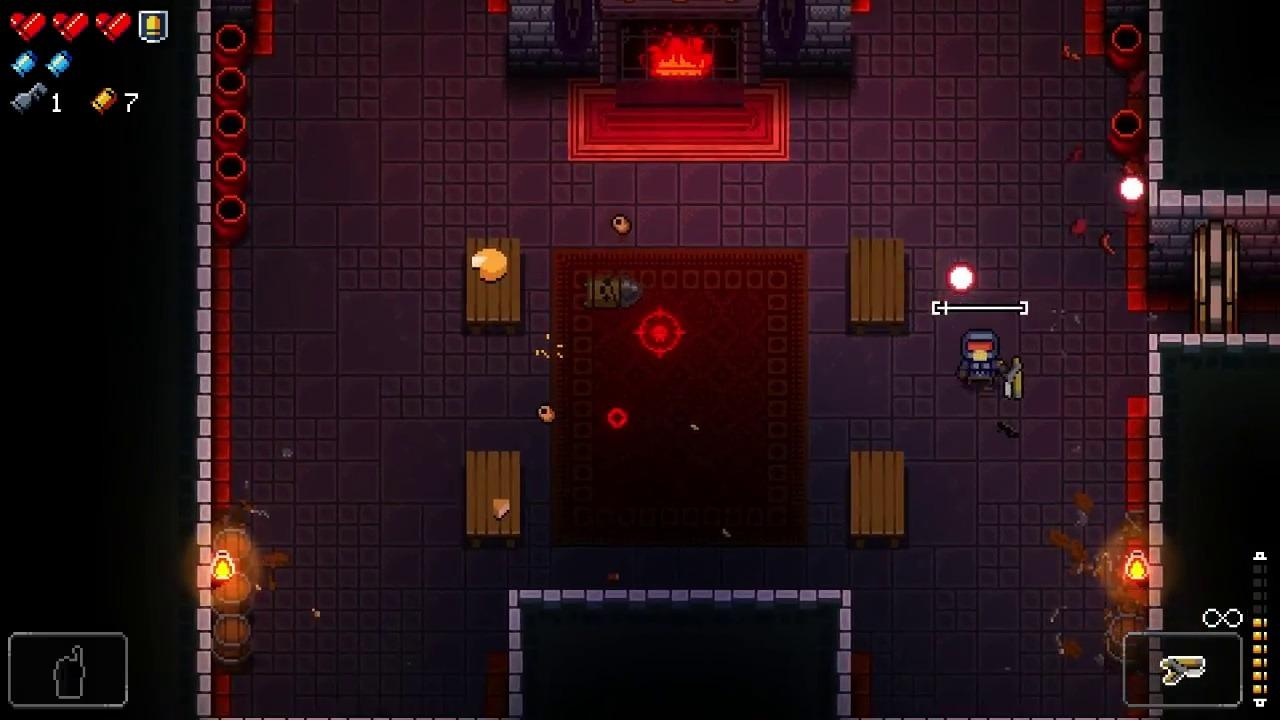bullet: (946, 262, 978, 297), (1118, 175, 1147, 202)
dead_veteran_bullet_kin: (585, 276, 645, 310)
enemy_spawn: (633, 306, 685, 360)
locked_door: (1195, 218, 1240, 335)
player: (962, 329, 999, 385)
table: (465, 453, 521, 548), (850, 451, 904, 549), (466, 237, 520, 332), (851, 238, 904, 334)
